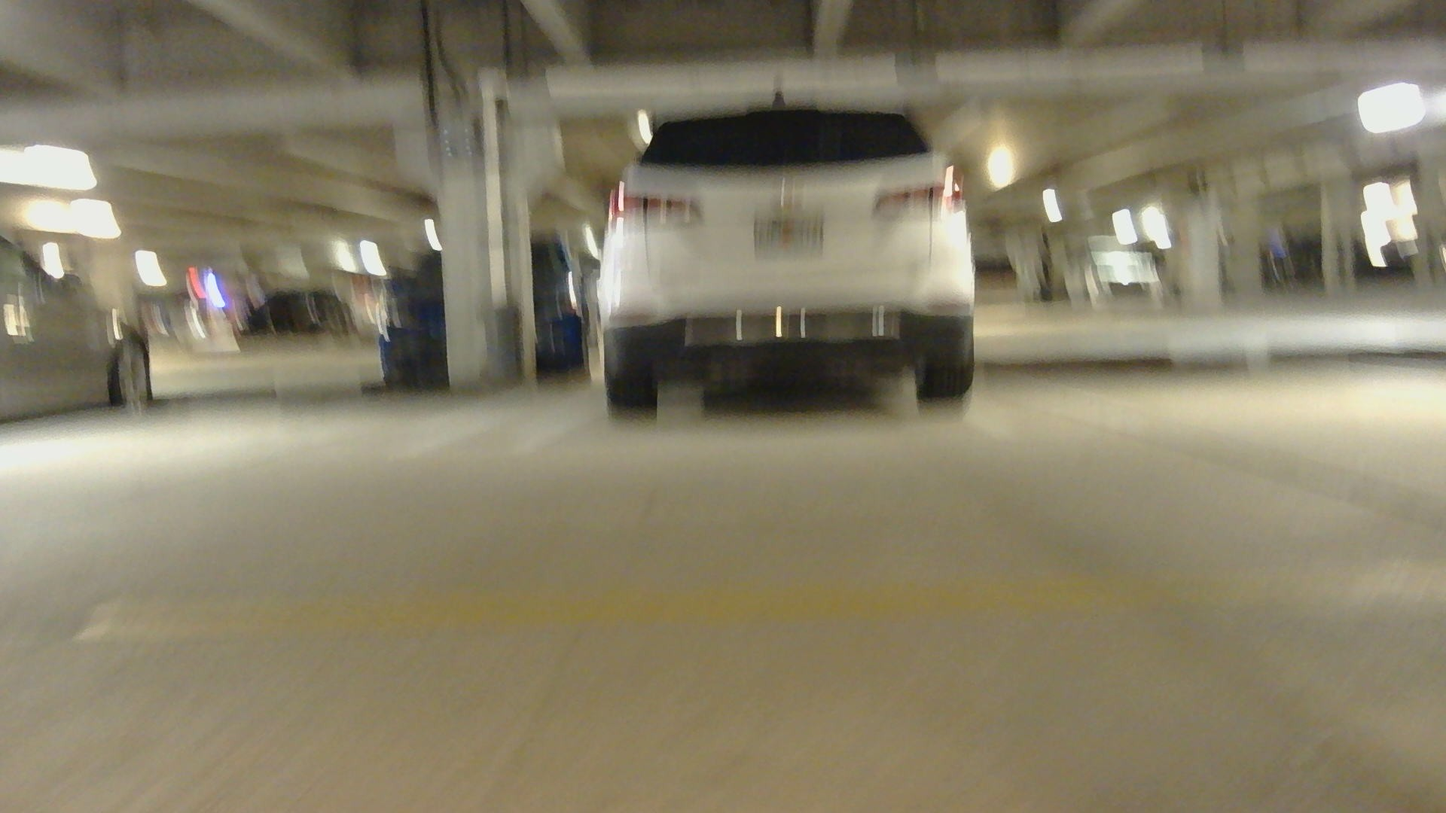empty_spot: (990, 339, 1441, 439), (0, 388, 473, 466)
occupied_spot: (587, 109, 984, 432)
